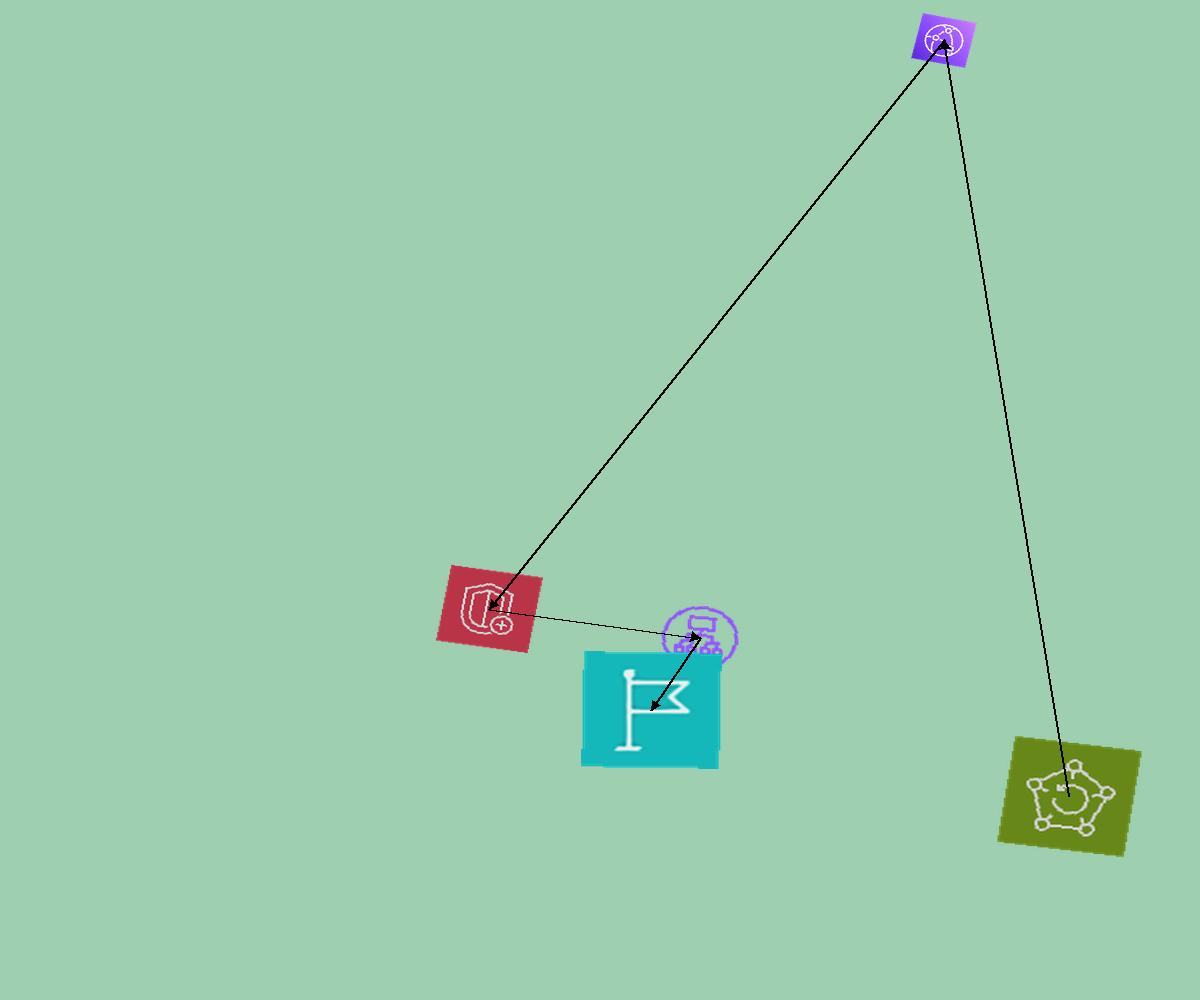AWS-Backup: (996, 735, 1143, 858)
AWS-CloudFront: (911, 13, 977, 68)
AWS-Region: (581, 651, 722, 769)
AWS-Res_Elastic-Load-Balancing_Application-Load-Balancer: (653, 599, 747, 677)
AWS-Shield: (435, 564, 544, 654)
